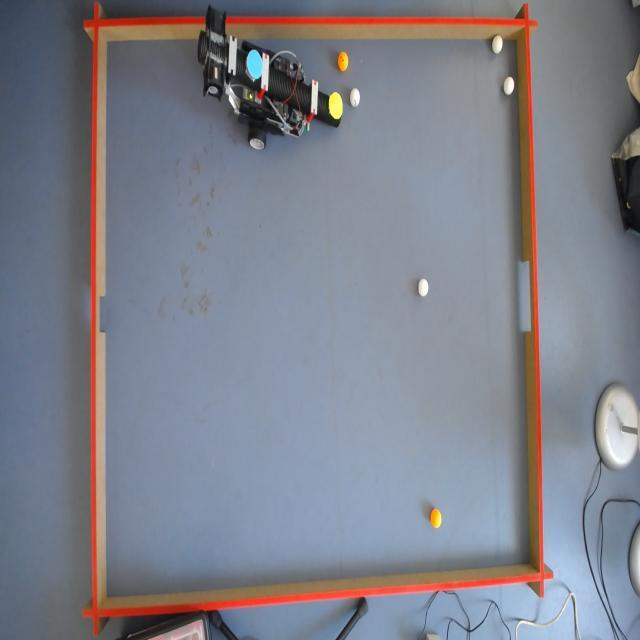orange: (336, 52, 348, 73)
robot: (197, 4, 342, 150)
robot-front: (328, 93, 344, 119)
robot-rear: (245, 47, 263, 81)
white: (502, 75, 516, 96), (490, 36, 504, 56), (416, 277, 430, 297), (431, 508, 443, 530), (348, 88, 358, 106)
